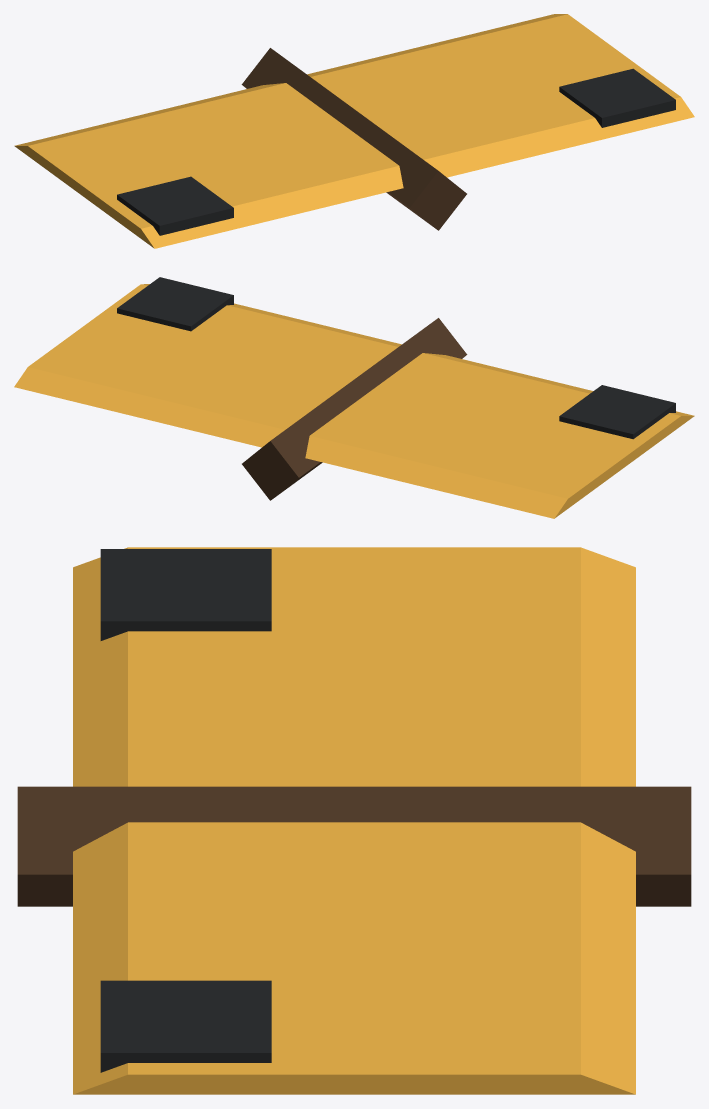
Rendered from butterfly-orange.glb.
The picture shows the model from 3 angles, top to bottom: view 1: azimuth 30°, elevation 25°; view 2: azimuth 150°, elevation 25°; view 3: azimuth 270°, elevation 25°; orthographic projection. The views are drawn at different scales.
Parts seen in each view (by area): view 1: wing_R, wing_L, butterfly-orange; view 2: wing_R, wing_L, butterfly-orange; view 3: wing_L, wing_R, butterfly-orange.
Boxes of the visible parts, x1=… form: wing_R: x1=14, y1=83, x2=403, y2=248; wing_L: x1=307, y1=14, x2=694, y2=177; butterfly-orange: x1=241, y1=48, x2=466, y2=230; wing_R: x1=305, y1=353, x2=694, y2=518; wing_L: x1=14, y1=277, x2=401, y2=447; butterfly-orange: x1=242, y1=318, x2=467, y2=500; wing_L: x1=73, y1=822, x2=635, y2=1094; wing_R: x1=73, y1=547, x2=635, y2=786; butterfly-orange: x1=17, y1=786, x2=691, y2=906.
Size of the model in its own units: 0.2207 by 0.0234 by 0.1191.
